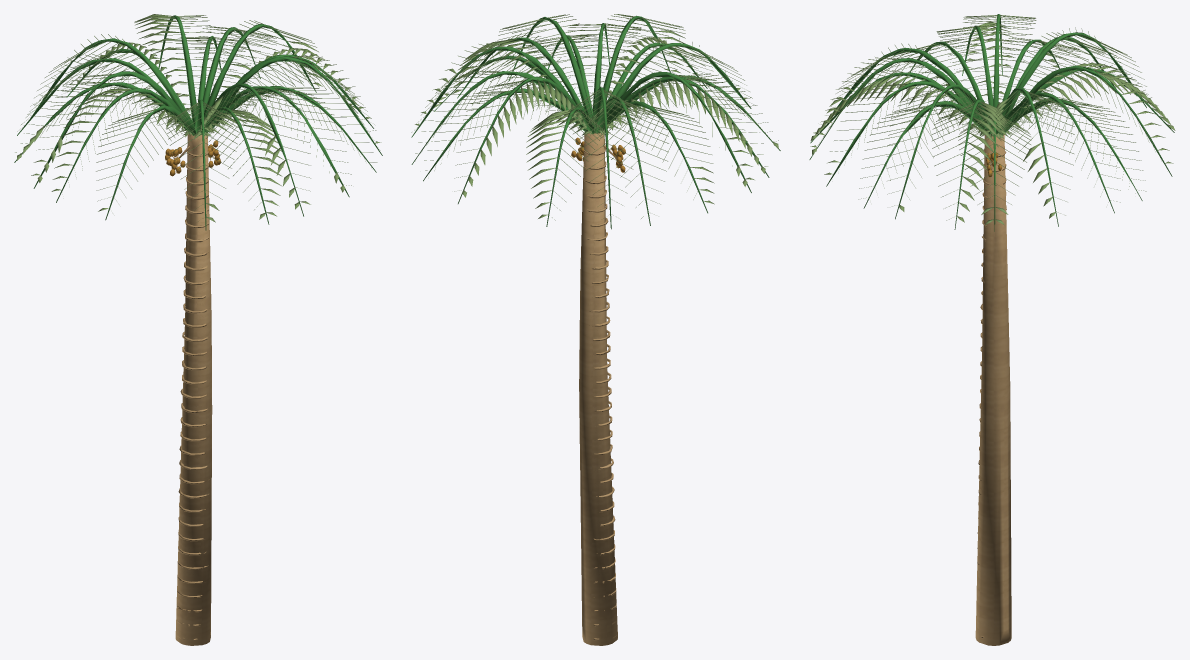
File: palm-date.glb
3 renders of one model, left to right at view 1: azimuth 30°, elevation 25°; view 2: azimuth 150°, elevation 25°; view 3: azimuth 270°, elevation 25°, orthographic.
Parts seen in each view (by area): view 1: Date bunch supporting stalk, Date palm feather leaflets, Date palm frond stem, Date fruit cluster; view 2: Date palm feather leaflets, Date bunch supporting stalk, Date palm frond stem; view 3: Date palm feather leaflets, Date bunch supporting stalk, Date palm frond stem.
Part boxes in pixels (x1,y1,x2,y2): Date bunch supporting stalk: (169,134,214,645); Date palm feather leaflets: (15,14,381,222); Date palm frond stem: (14,15,382,230); Date fruit cluster: (165,140,221,176); Date palm feather leaflets: (411,14,778,220); Date bunch supporting stalk: (576,133,617,645); Date palm frond stem: (411,15,780,229); Date palm feather leaflets: (810,15,1175,224); Date bunch supporting stalk: (975,134,1011,645); Date palm frond stem: (809,14,1174,231).
Bounding box in the file's own units: 6.91 × 12 × 6.8.
Materials: 4 (4 with a texture image).
